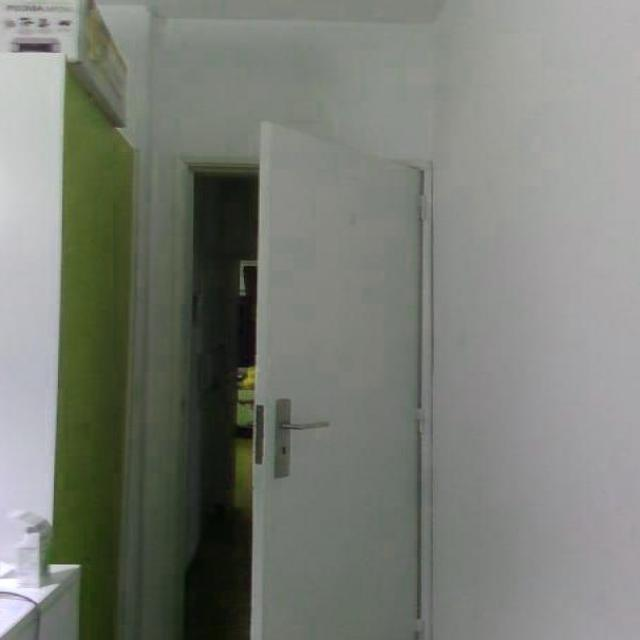door: (249, 119, 426, 638)
